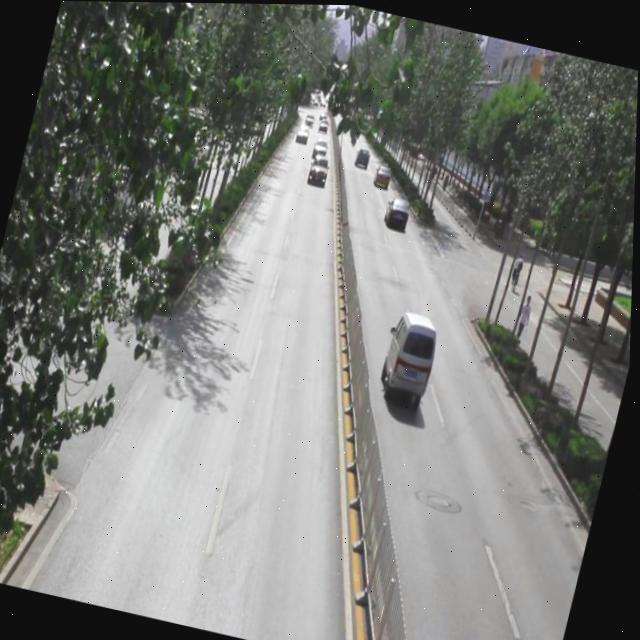car: (381, 194, 413, 232), (305, 152, 332, 186), (372, 161, 393, 190), (352, 144, 372, 171), (310, 135, 330, 162), (294, 124, 312, 146)
truck: (377, 308, 444, 405)
